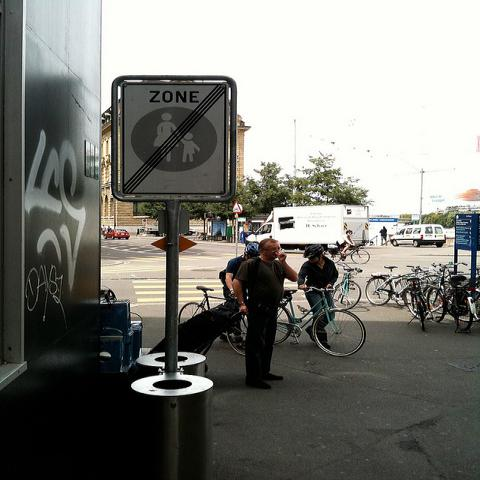car: (390, 224, 446, 248), (103, 229, 130, 240)
truck: (245, 206, 368, 248), (391, 223, 447, 248), (146, 226, 163, 236)
